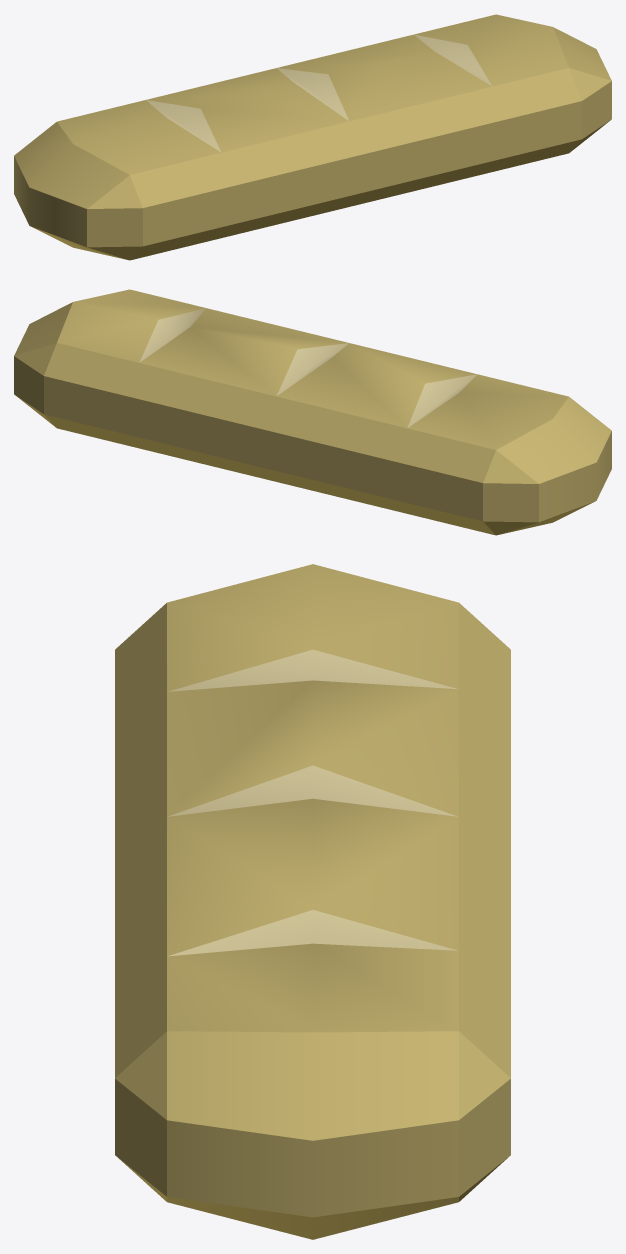
The model's file is baguette.FBX.
The picture shows the model from 3 angles, top to bottom: view 1: azimuth 30°, elevation 25°; view 2: azimuth 150°, elevation 25°; view 3: azimuth 270°, elevation 25°; orthographic projection. The views are drawn at different scales.
Parts seen in each view (by area): view 1: Box001; view 2: Box001; view 3: Box001.
Boxes of the visible parts, box(x1,y1,x2,y2) form: Box001: box(14, 14, 611, 260); Box001: box(14, 289, 611, 535); Box001: box(115, 564, 510, 1239).
Bounding box in the file's own units: 104 × 19.48 × 31.5.
